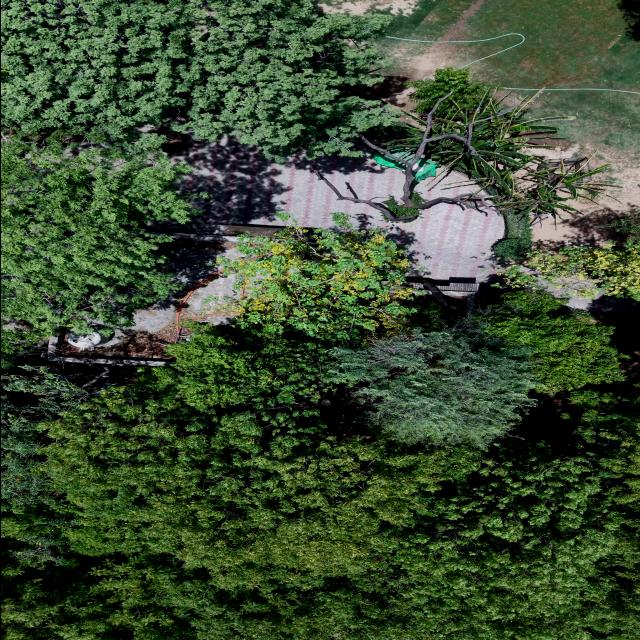DRY_AREA: (155, 138, 503, 294), (155, 138, 503, 282), (173, 139, 504, 281), (175, 139, 503, 282), (384, 0, 639, 91), (64, 240, 238, 357), (320, 0, 417, 15)
VEGETATION_TREE: (1, 0, 639, 639), (1, 0, 604, 338), (6, 334, 638, 638), (6, 379, 638, 638), (1, 0, 394, 339), (44, 371, 480, 581), (224, 229, 625, 446), (1, 0, 392, 160), (318, 69, 609, 260), (364, 69, 608, 266), (371, 69, 608, 229), (1, 142, 192, 334), (409, 69, 607, 219), (330, 319, 537, 445), (219, 227, 415, 339), (1, 363, 92, 575), (479, 292, 625, 393), (167, 324, 335, 410), (499, 209, 639, 300), (499, 242, 639, 300), (407, 69, 494, 116), (493, 214, 533, 261), (601, 210, 639, 242), (492, 238, 531, 260)
